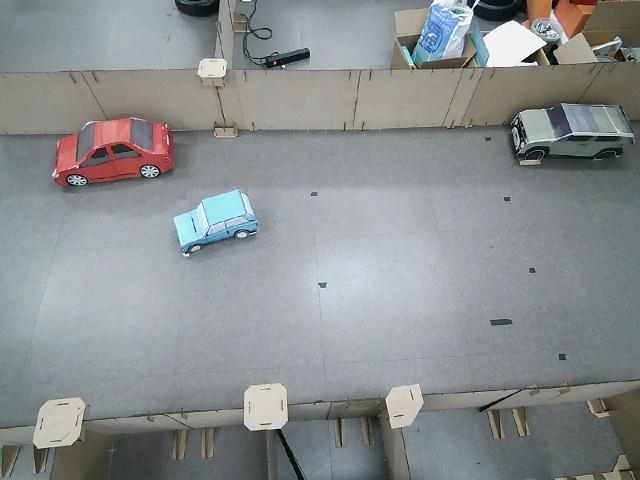car: (53, 115, 173, 187), (509, 103, 635, 162), (173, 191, 258, 254)
